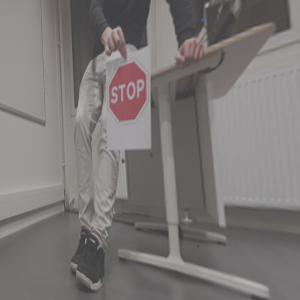stop: (109, 61, 149, 123)
